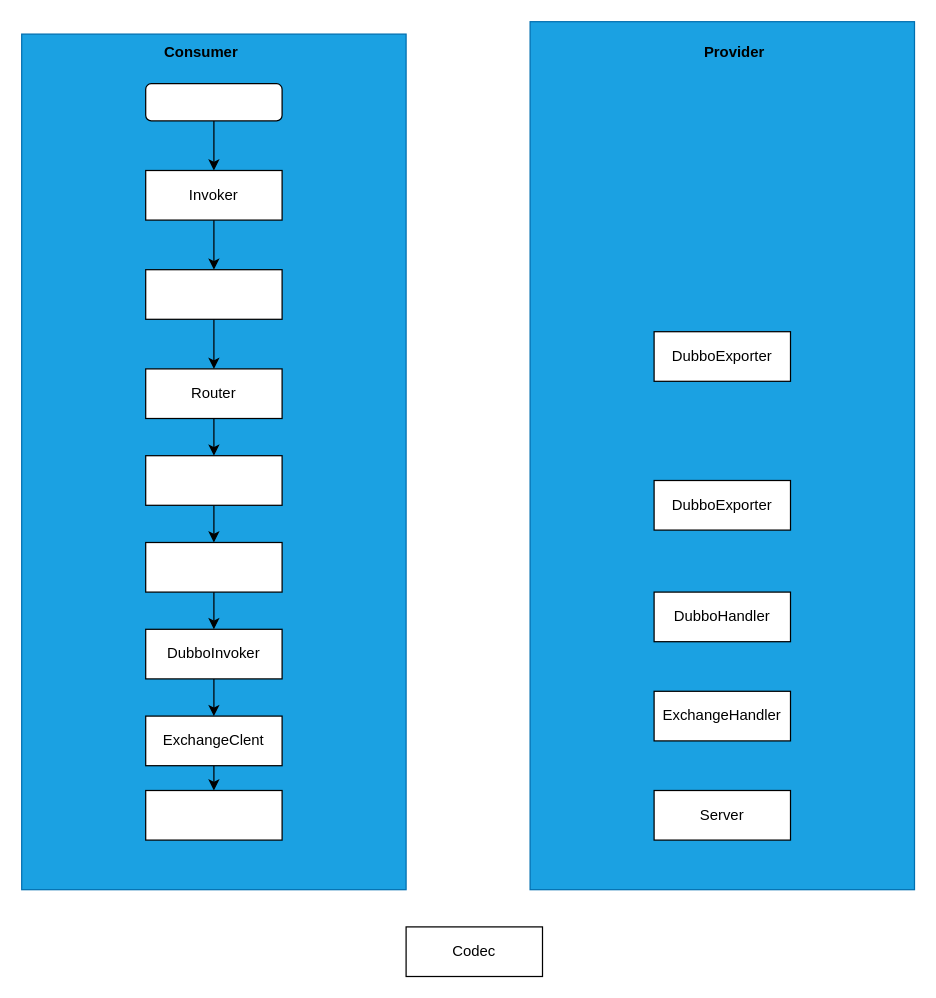
This 936x998 diagram has some shape labels left out. The centre of each missing label's shape, as x and y in pixels:
Client: the point at 213,814
Directory: the point at 213,293
Filter: the point at 213,566
LoadBanlance: the point at 213,479
Proxy: the point at 213,101
